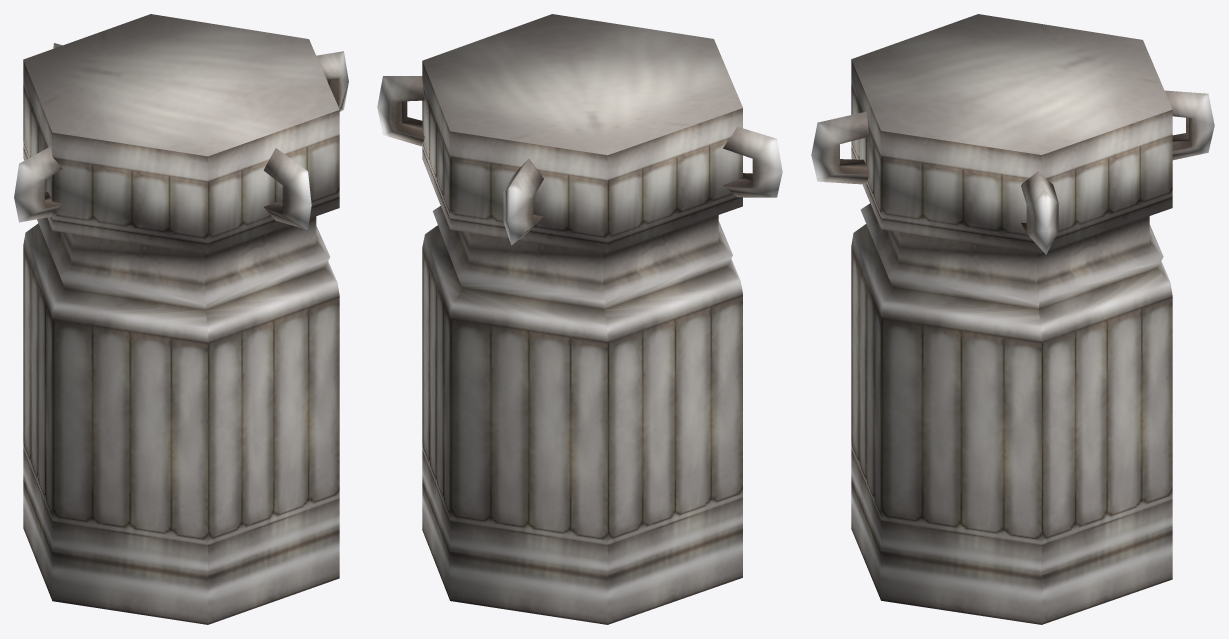
File: a_SCstair02_1.glb
3 renders of one model, left to right at view 1: azimuth 30°, elevation 25°; view 2: azimuth 150°, elevation 25°; view 3: azimuth 270°, elevation 25°, orthographic.
Parts seen in each view (by area): view 1: a_SCstair02_1; view 2: a_SCstair02_1; view 3: a_SCstair02_1.
Boxes of the visible parts, x1,y1,x2,y2 form: a_SCstair02_1: [14, 14, 348, 624]; a_SCstair02_1: [377, 14, 782, 624]; a_SCstair02_1: [811, 14, 1214, 624].
Size of the model in its own units: 2.31 by 2.8 by 2.18.
1 material, 1 textured.
